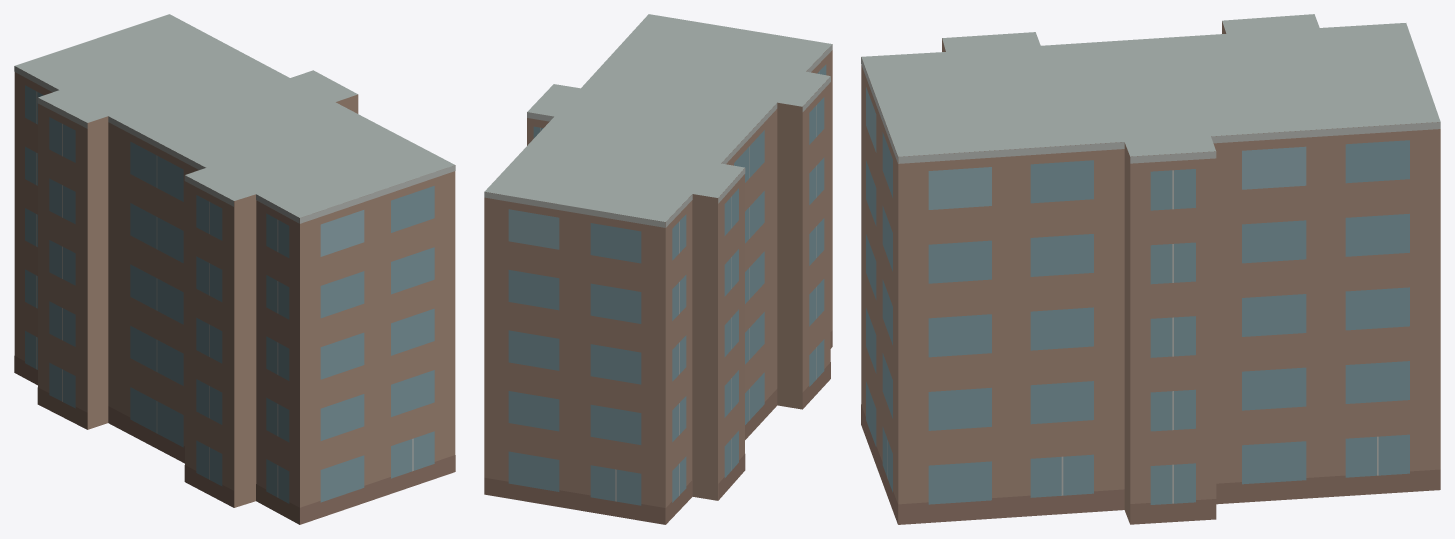
The model's file is survey-upis-32926525.glb.
The picture shows the model from 3 angles, left to right: view 1: azimuth 30°, elevation 25°; view 2: azimuth 150°, elevation 25°; view 3: azimuth 270°, elevation 25°; orthographic projection. The views are drawn at different scales.
Parts seen in each view (by area): view 1: survey-upis-32926525.tmp; view 2: survey-upis-32926525.tmp; view 3: survey-upis-32926525.tmp.
Boxes of the visible parts, x1,y1,x2,y2 form: survey-upis-32926525.tmp: (14, 14, 455, 524); survey-upis-32926525.tmp: (484, 14, 832, 524); survey-upis-32926525.tmp: (861, 14, 1440, 524).
Size of the model in its own units: 10.49 by 12.6 by 17.99.
